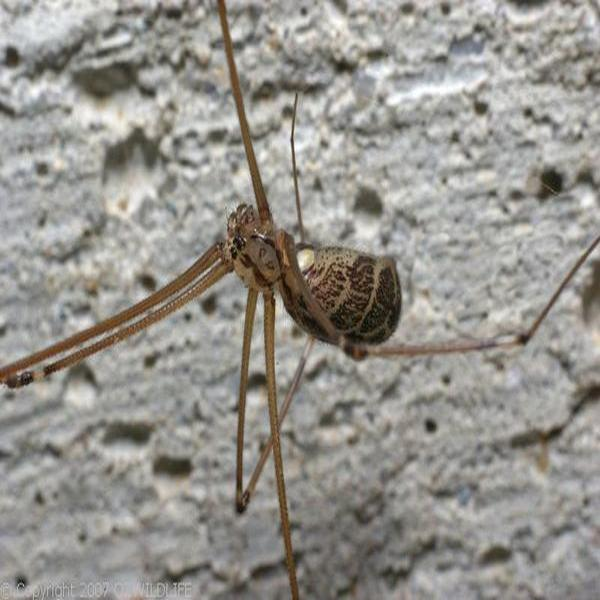Daddy Long Legs Spider: (7, 2, 600, 595)
